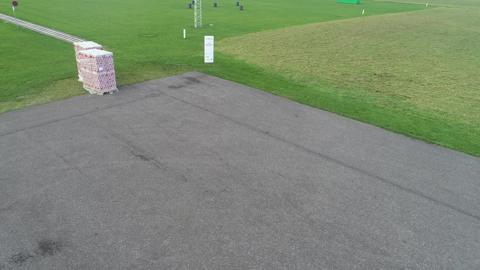RockwoolPallet: (74, 42, 104, 58)
